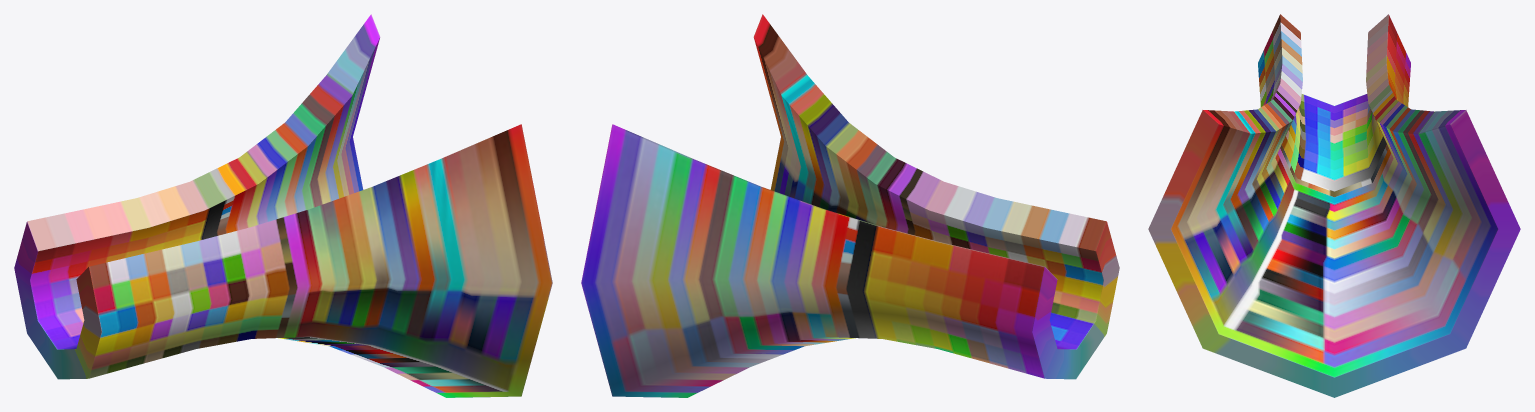
Rendered from TubeEntry.fbx.
3 views of the same model, side by side, from view 1: azimuth 30°, elevation 25°; view 2: azimuth 150°, elevation 25°; view 3: azimuth 270°, elevation 25° (orthographic). The views are drawn at different scales.
Parts seen in each view (by area): view 1: NurbsPath.039; view 2: NurbsPath.039; view 3: NurbsPath.039.
Part boxes in pixels (x1=…): NurbsPath.039: x1=14, y1=14, x2=552, y2=397; NurbsPath.039: x1=581, y1=14, x2=1119, y2=397; NurbsPath.039: x1=1148, y1=14, x2=1520, y2=397.
Size of the model in its own units: 4.1 by 3.31 by 3.88.
